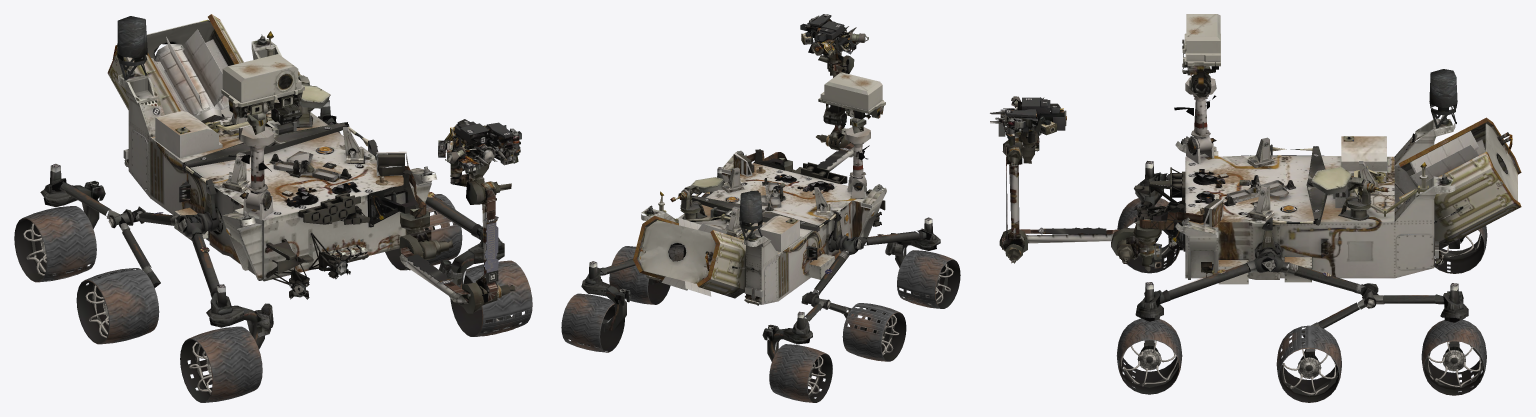
The model's file is curiosity-25k.glb.
3 renders of one model, left to right at view 1: azimuth 30°, elevation 25°; view 2: azimuth 150°, elevation 25°; view 3: azimuth 270°, elevation 25°, orthographic. The views are drawn at different scales.
Visible parts, largest first — view 1: MSL; view 2: MSL; view 3: MSL.
Boxes of the visible parts, x1,y1,x2,y2 form: MSL: (14,14,532,402); MSL: (561,14,960,402); MSL: (990,14,1521,402).
Bounding box in the file's own units: 2.78 × 2.22 × 3.94.
9 materials, 8 textured.
